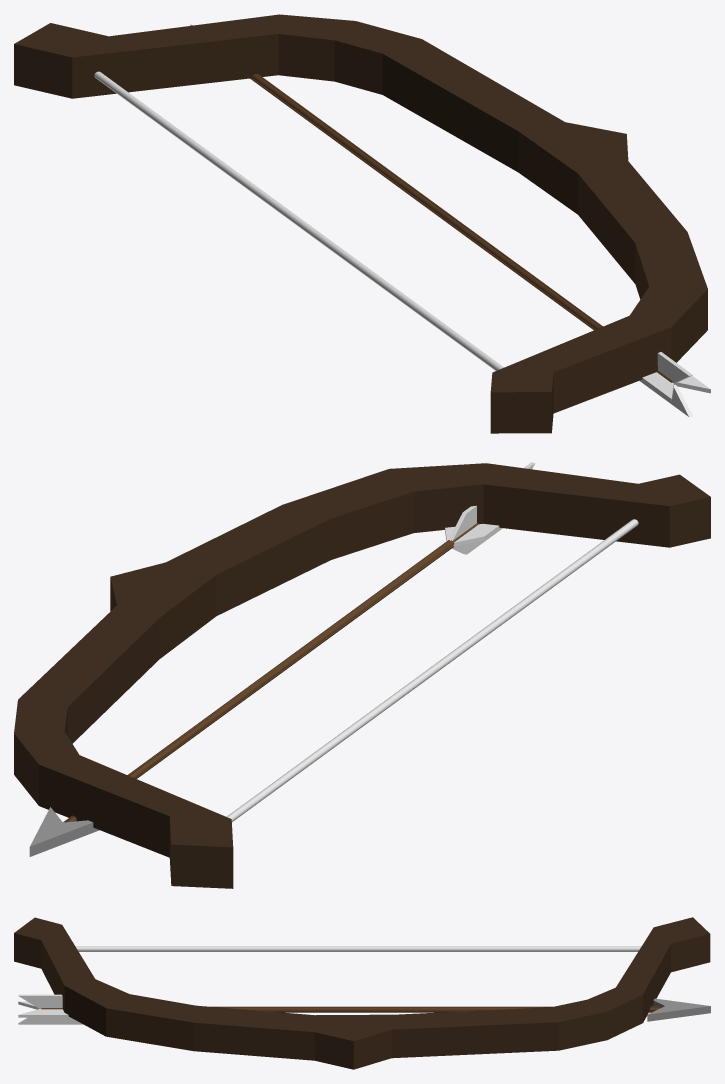
Rendered from bowandarrow.fbx.
The picture shows the model from 3 angles, top to bottom: view 1: azimuth 30°, elevation 25°; view 2: azimuth 150°, elevation 25°; view 3: azimuth 270°, elevation 25°; orthographic projection. The views are drawn at different scales.
Visible parts, largest first — view 1: bow, arrow; view 2: bow, arrow; view 3: bow, arrow.
Boxes of the visible parts, bbox=[...] form: bow: bbox=[14, 14, 707, 433]; arrow: bbox=[190, 24, 710, 417]; bow: bbox=[14, 463, 710, 888]; arrow: bbox=[29, 462, 535, 856]; bow: bbox=[14, 917, 710, 1069]; arrow: bbox=[18, 994, 710, 1024].
Size of the model in its own units: 93.18 by 15 by 221.
